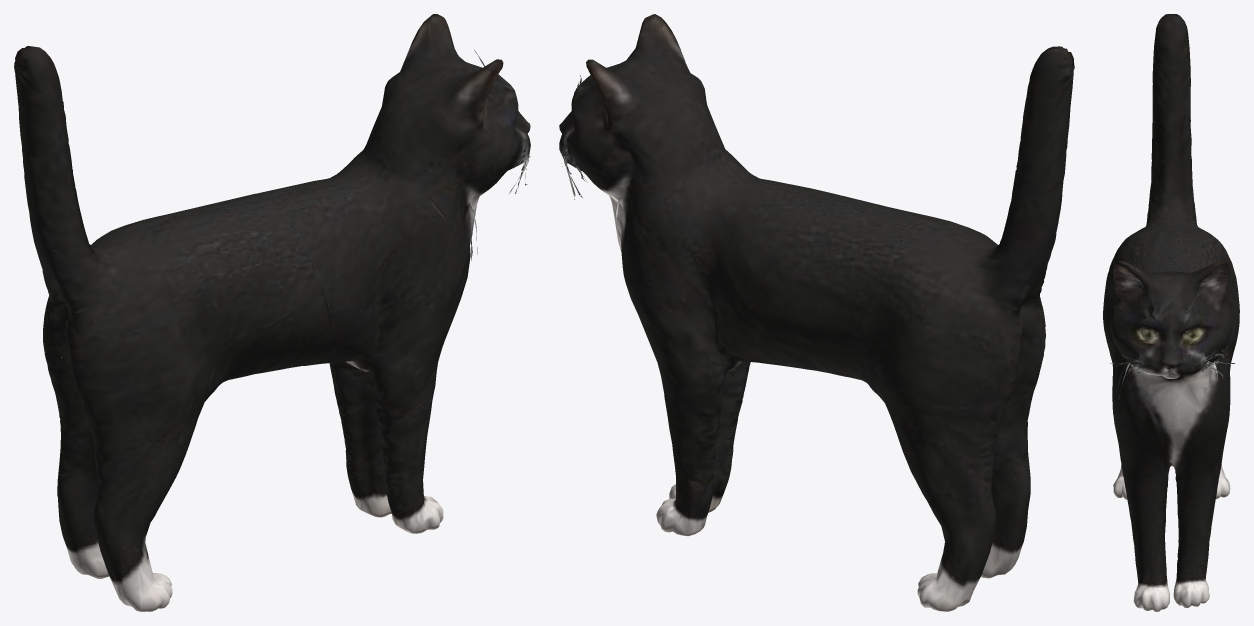
The model's file is SYBILCAT-lo.glb.
3 renders of one model, left to right at view 1: azimuth 30°, elevation 25°; view 2: azimuth 150°, elevation 25°; view 3: azimuth 270°, elevation 25°, orthographic. The views are drawn at different scales.
Parts seen in each view (by area): view 1: tripo_node_f879fd89-e963-451d-be79-116a4ebbd46e; view 2: tripo_node_f879fd89-e963-451d-be79-116a4ebbd46e; view 3: tripo_node_f879fd89-e963-451d-be79-116a4ebbd46e.
Boxes of the visible parts, box(x1,y1,x2,y2) form: tripo_node_f879fd89-e963-451d-be79-116a4ebbd46e: box(14, 14, 530, 611); tripo_node_f879fd89-e963-451d-be79-116a4ebbd46e: box(559, 14, 1074, 611); tripo_node_f879fd89-e963-451d-be79-116a4ebbd46e: box(1103, 14, 1239, 611).
Bounding box in the file's own units: 0.9531 × 0.9999 × 0.278.
Materials: 1 (1 with a texture image).
